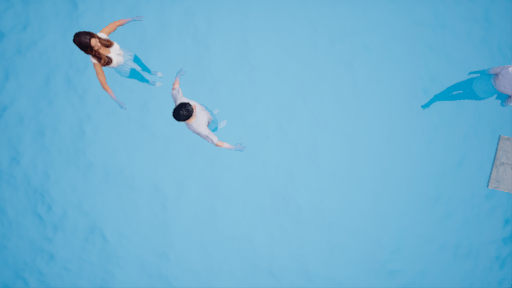person: (74, 13, 166, 109), (158, 69, 247, 160)
